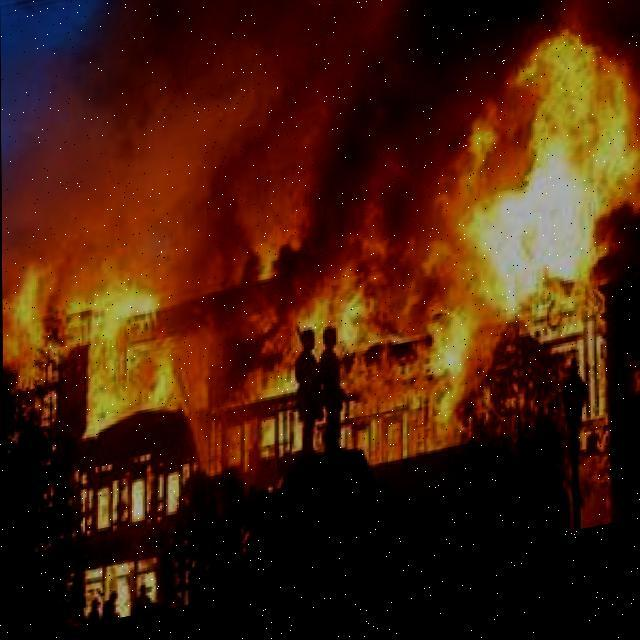Fire: (2, 40, 630, 620)
